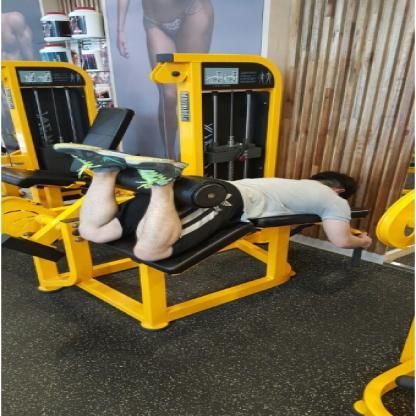reg curl machine: (0, 50, 416, 335)
